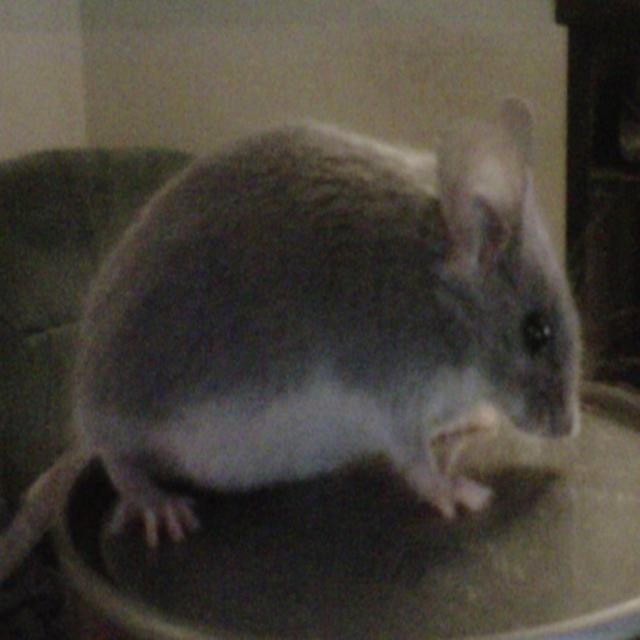rat: (44, 95, 640, 640)
